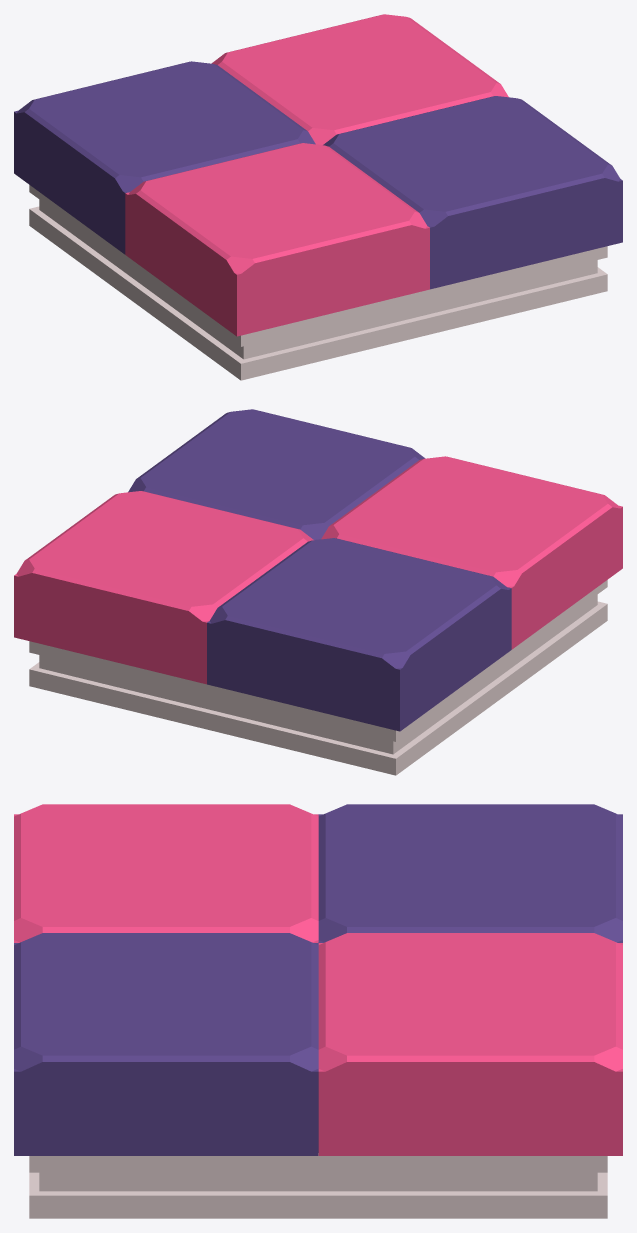
Rendered from checkerboard_v2.1_2x2_h3.fbx.
3 views of the same model, one above another, from view 1: azimuth 30°, elevation 25°; view 2: azimuth 150°, elevation 25°; view 3: azimuth 270°, elevation 25° (orthographic). The views are drawn at different scales.
Visible parts, largest first — view 1: Cube.048, Cube.049; view 2: Cube.048, Cube.049; view 3: Cube.048, Cube.049.
Boxes of the visible parts, box(x1,y1,x2,y2) form: Cube.048: box(14, 14, 622, 336); Cube.049: box(29, 185, 607, 380); Cube.048: box(14, 409, 622, 731); Cube.049: box(29, 580, 607, 775); Cube.048: box(14, 804, 622, 1155); Cube.049: box(29, 1153, 607, 1218).
Size of the model in its own units: 200 by 60.29 by 200.
